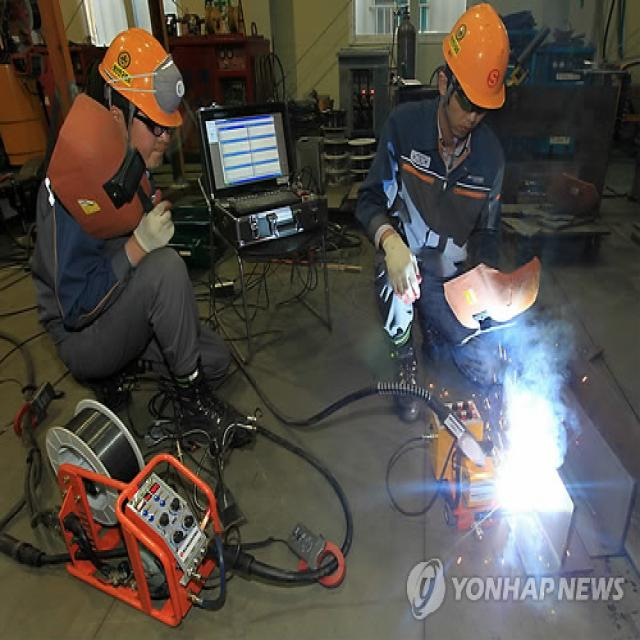welding: (498, 451, 565, 520)
